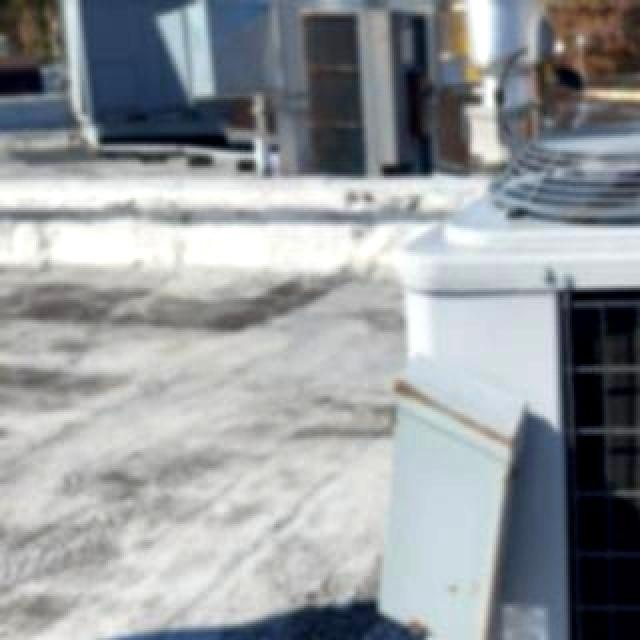SPLIT-SYSTEM: (376, 112, 640, 640)
